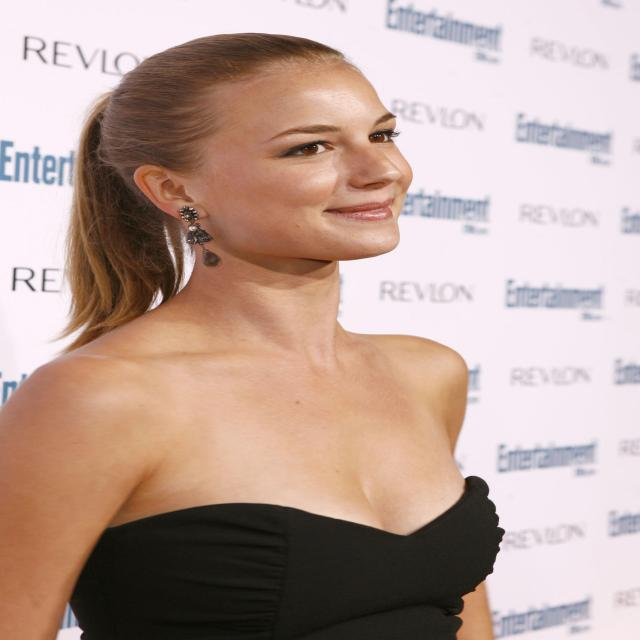no-earmuff: (116, 152, 236, 238)
